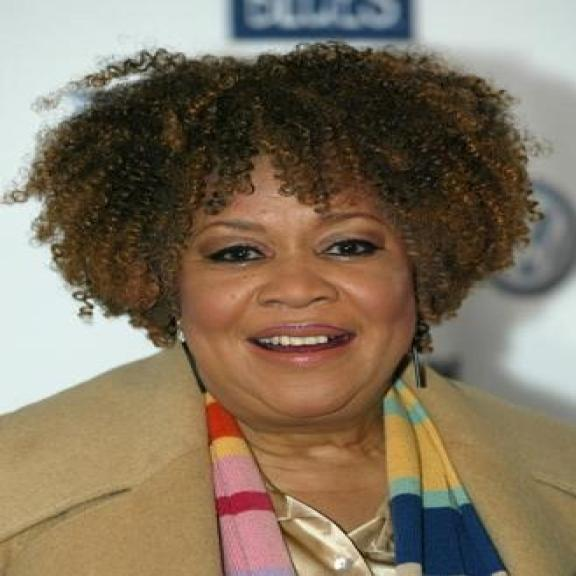face: (146, 133, 437, 430)
